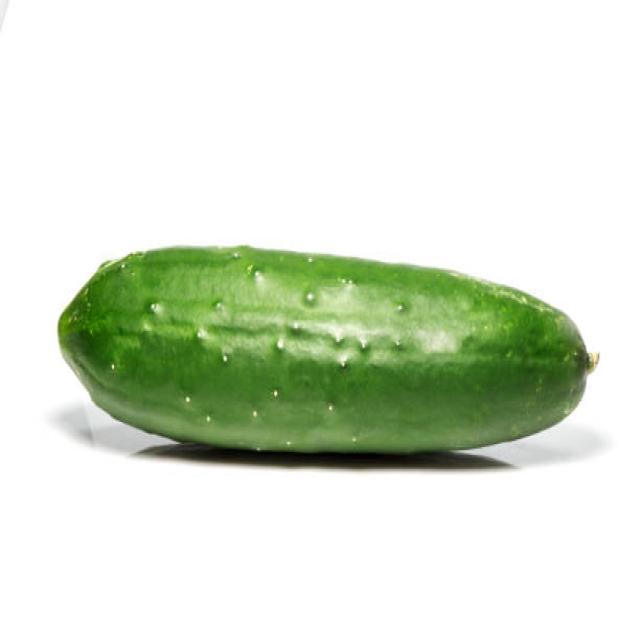cucumber: (58, 242, 587, 454)
